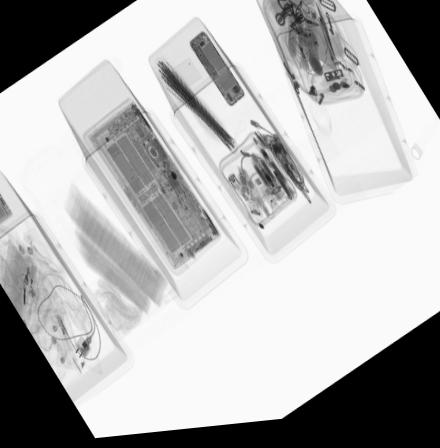Lighter: (28, 264, 36, 298)
